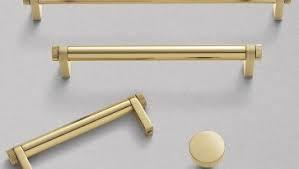handle: (2, 92, 155, 169), (48, 41, 272, 87), (21, 1, 289, 23), (182, 128, 246, 169)
